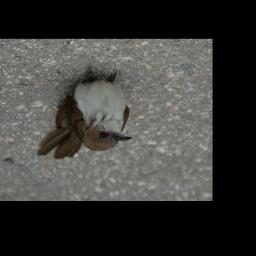Cuckoo: (37, 64, 133, 160)
